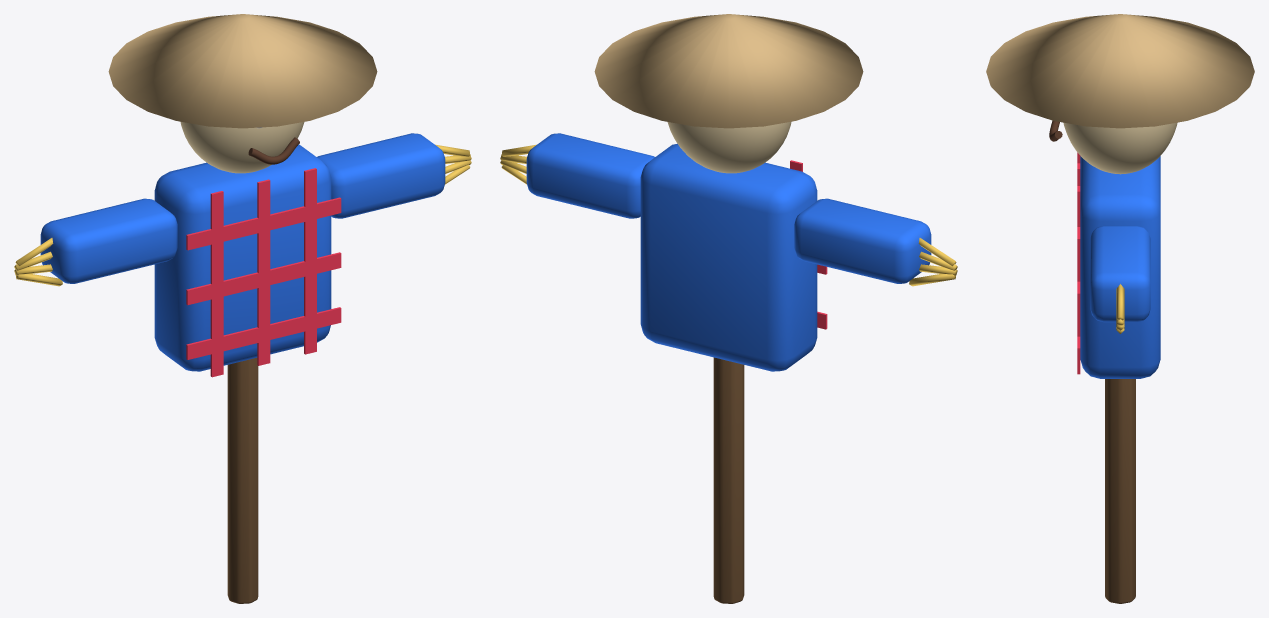
Rendered from orang-orangan.glb.
3 renders of one model, left to right at view 1: azimuth 30°, elevation 25°; view 2: azimuth 150°, elevation 25°; view 3: azimuth 270°, elevation 25°, orthographic.
Visible parts, largest first — view 1: Cone, Cube, Cube.007, Cylinder, Cube.008, Sphere, Cube.003, Cube.001, Cube.005, Cube.002, Cube.004, Cube.006; view 2: Cube, Cone, Cube.007, Cylinder, Cube.008, Sphere; view 3: Cone, Cube, Cylinder, Cube.008, Sphere, Cube.006.
Boxes of the visible parts, <box> form: Cone: <box>108,14,377,128</box>; Cube: <box>154,144,331,371</box>; Cube.007: <box>40,198,177,283</box>; Cylinder: <box>227,358,258,603</box>; Cube.008: <box>317,133,445,218</box>; Sphere: <box>180,121,304,173</box>; Cube.003: <box>186,252,341,305</box>; Cube.001: <box>186,307,341,359</box>; Cube.005: <box>186,197,341,250</box>; Cube.002: <box>210,191,223,377</box>; Cube.004: <box>257,179,270,365</box>; Cube.006: <box>304,168,316,354</box>; Cube: <box>640,143,817,371</box>; Cone: <box>594,14,863,128</box>; Cube.007: <box>794,198,931,283</box>; Cylinder: <box>713,357,744,603</box>; Cube.008: <box>526,133,654,218</box>; Sphere: <box>667,121,791,173</box>; Cone: <box>986,14,1254,128</box>; Cube: <box>1080,156,1160,378</box>; Cylinder: <box>1105,379,1135,603</box>; Cube.008: <box>1090,225,1150,322</box>; Sphere: <box>1063,122,1177,174</box>; Cube.006: <box>1077,186,1080,374</box>.
Size of the model in its own units: 3.9 by 4.78 by 2.
